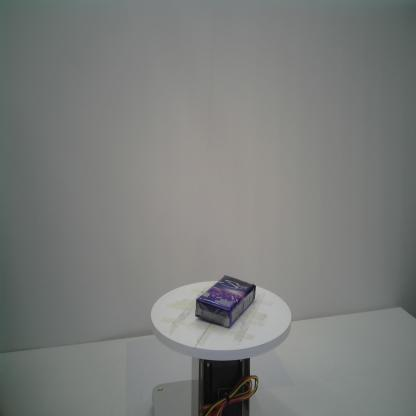Gum: (194, 275, 256, 328)
